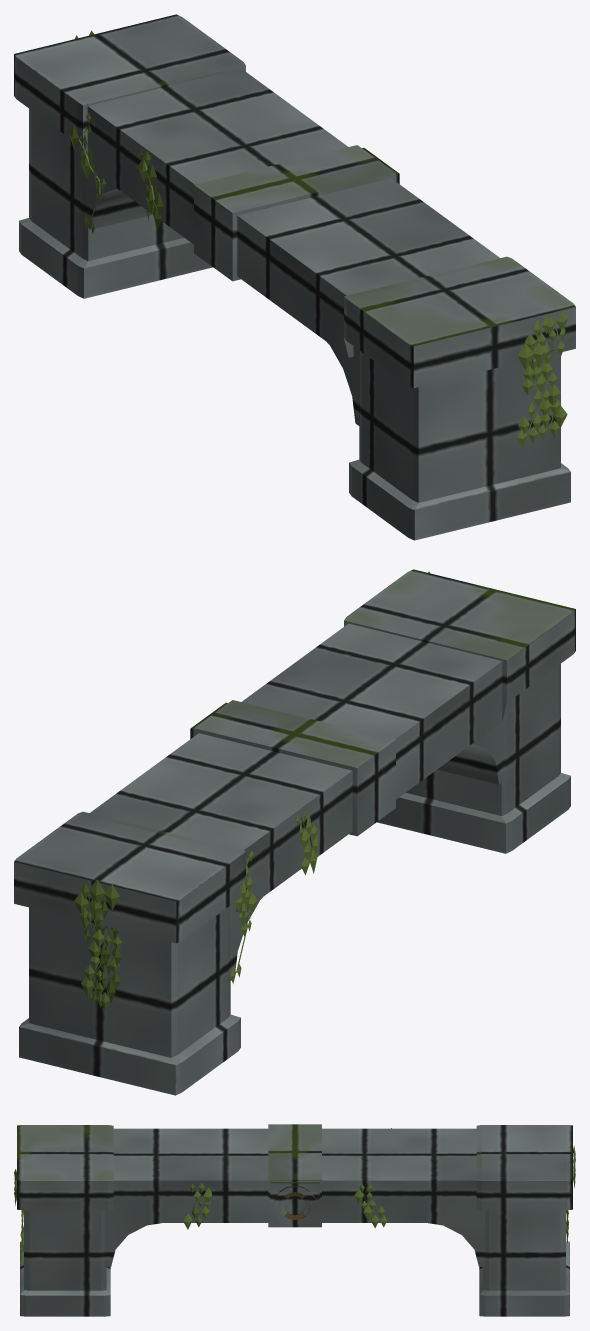
File: NarrowConnecter.fbx
3 views of the same model, one above another, from view 1: azimuth 30°, elevation 25°; view 2: azimuth 150°, elevation 25°; view 3: azimuth 270°, elevation 25° (orthographic). The views are drawn at different scales.
Parts seen in each view (by area): view 1: NarrowConnecter.002; view 2: NarrowConnecter.002; view 3: NarrowConnecter.002.
Boxes of the visible parts, x1,y1,x2,y2 form: NarrowConnecter.002: (14,14,575,540); NarrowConnecter.002: (14,569,575,1095); NarrowConnecter.002: (14,1124,575,1316).
Bounding box in the file's own units: 2.53 × 2.74 × 10.01.
Materials: 4 (3 with a texture image).
